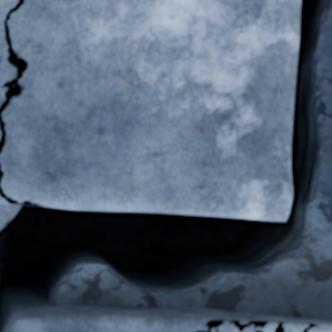brick: (0, 0, 299, 220), (6, 306, 331, 331), (0, 0, 17, 105), (0, 199, 6, 203)
crack: (0, 0, 331, 331), (0, 0, 28, 154)
